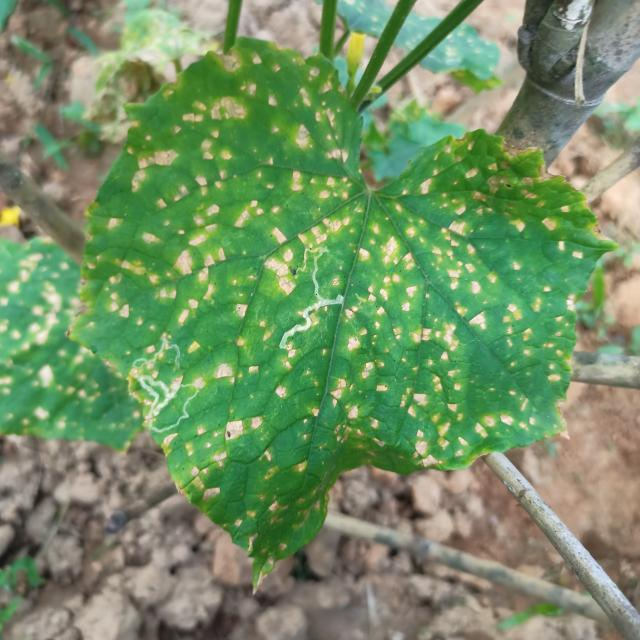disease_cucumber: (95, 50, 572, 551)
